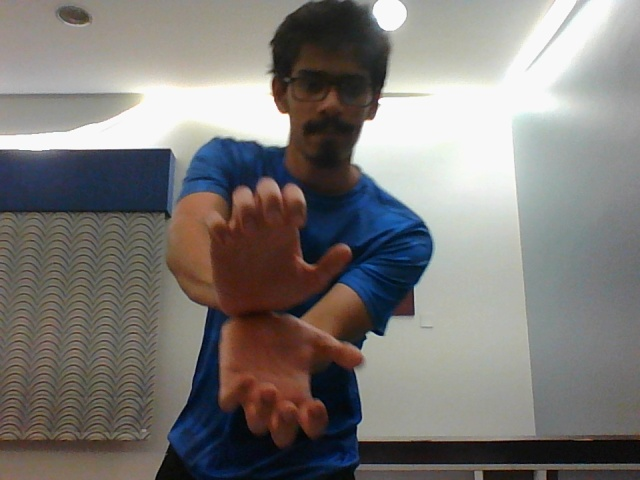blast: (191, 177, 368, 445)
